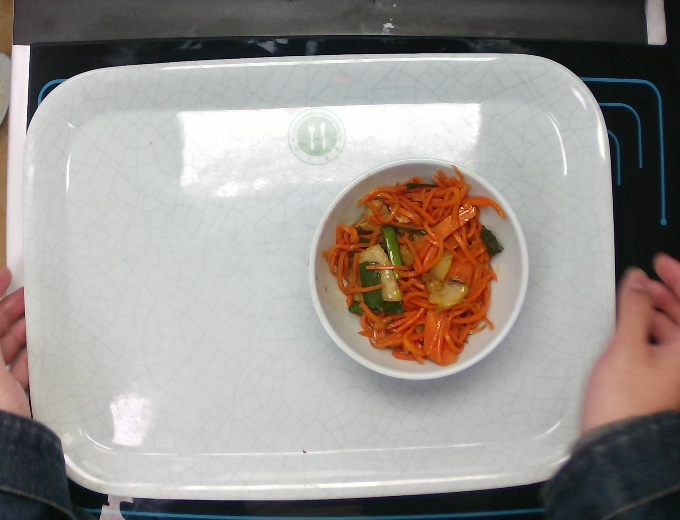JYsf-Fan_Wan: (310, 153, 531, 381)
